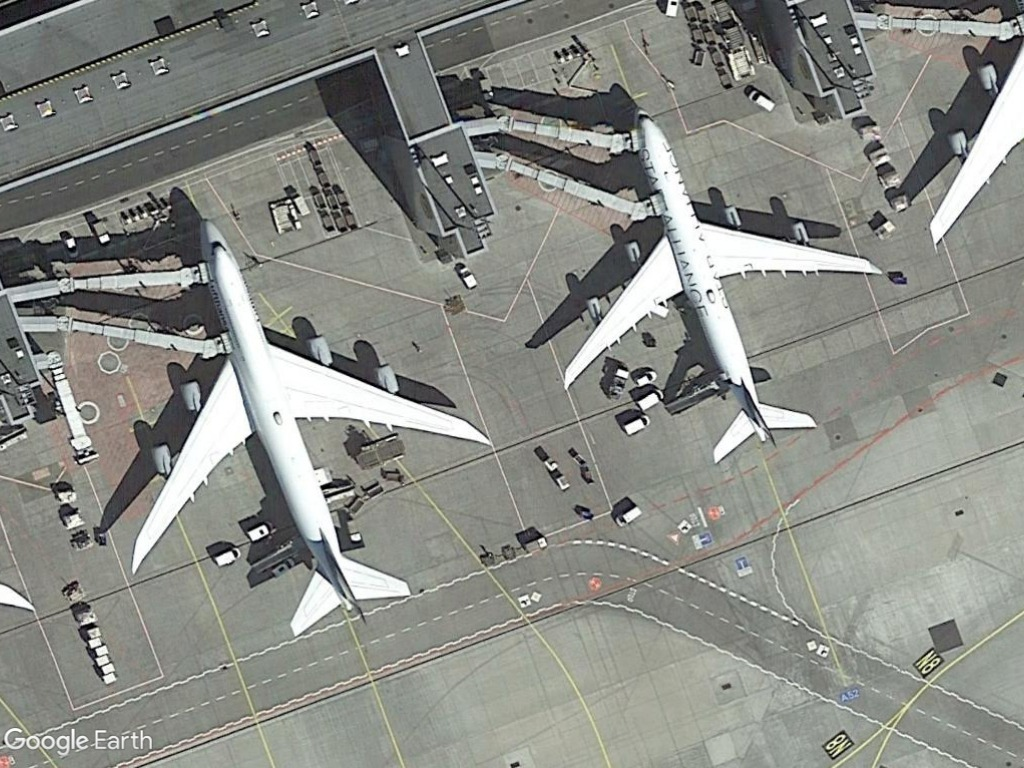airliner: (117, 210, 496, 640), (549, 108, 892, 473)
van: (611, 504, 643, 530)
